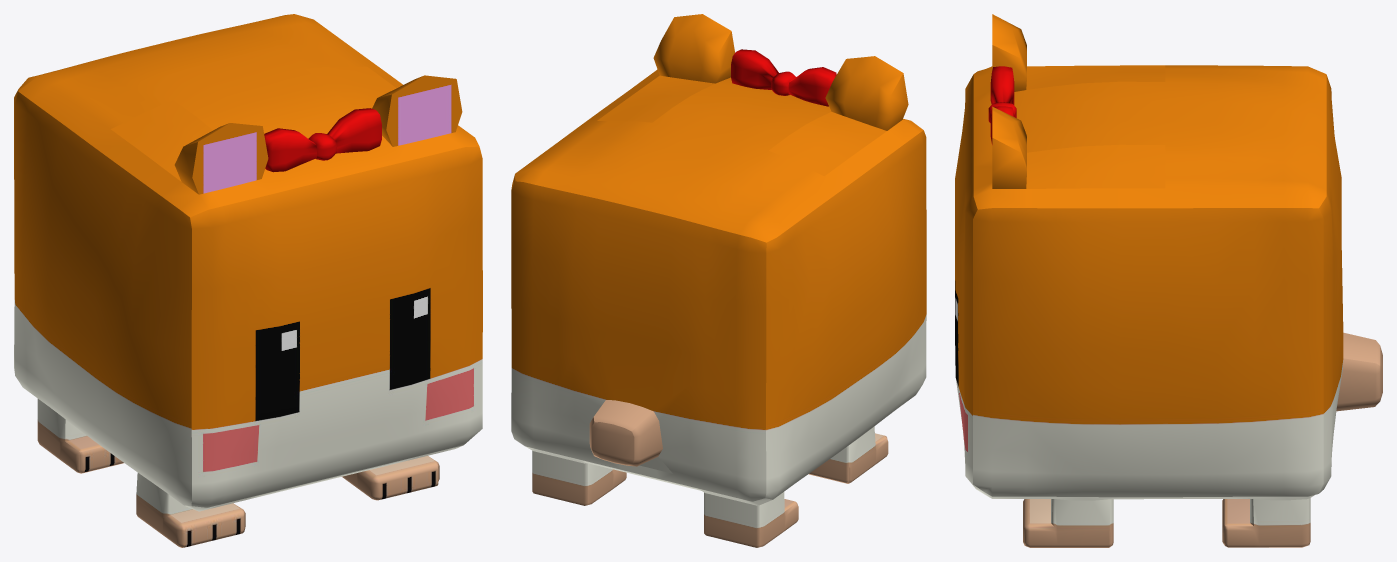
Rendered from RibbonRun.fbx.
3 renders of one model, left to right at view 1: azimuth 30°, elevation 25°; view 2: azimuth 150°, elevation 25°; view 3: azimuth 270°, elevation 25°, orthographic. The views are drawn at different scales.
Visible parts, largest first — view 1: pCube11; view 2: pCube11; view 3: pCube11.
Part boxes in pixels (x1,y1,x2,y2): pCube11: (14,14,482,547); pCube11: (511,14,926,547); pCube11: (955,14,1382,547).
Bounding box in the file's own units: 4.23 × 5.24 × 4.81.
